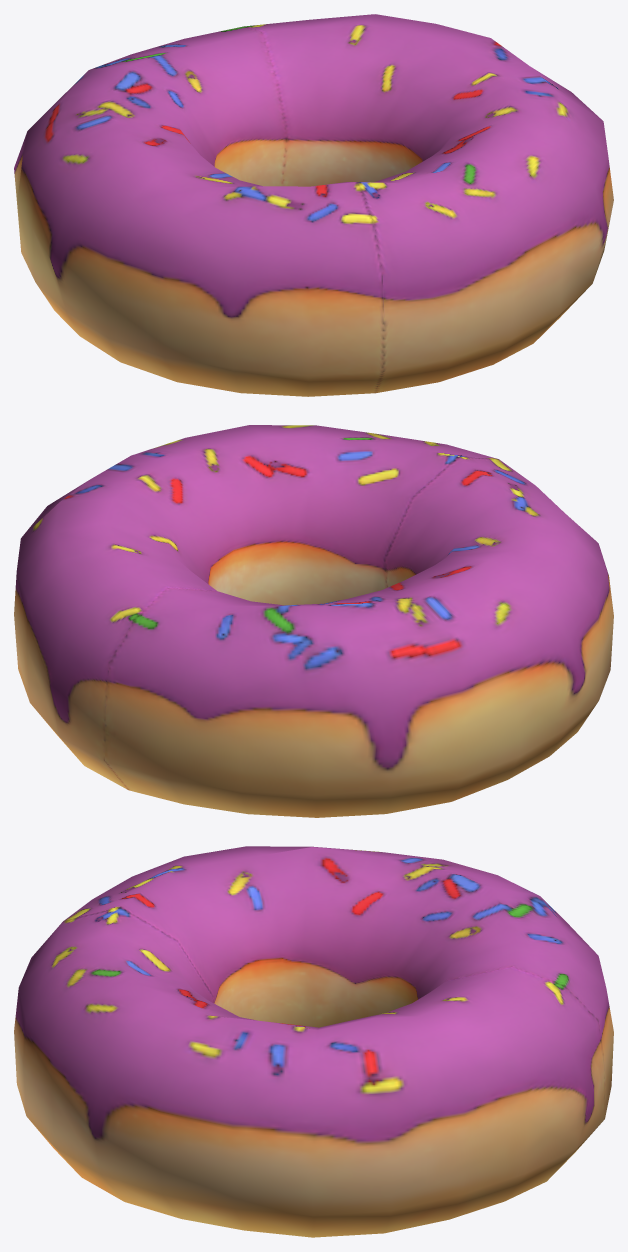
Rendered from Donut_setuped.fbx.
3 renders of one model, top to bottom at view 1: azimuth 30°, elevation 25°; view 2: azimuth 150°, elevation 25°; view 3: azimuth 270°, elevation 25°, orthographic. The views are drawn at different scales.
Parts seen in each view (by area): view 1: Donut_setup; view 2: Donut_setup; view 3: Donut_setup.
Boxes of the visible parts, x1,y1,x2,y2 form: Donut_setup: [14, 14, 613, 396]; Donut_setup: [14, 425, 613, 817]; Donut_setup: [14, 846, 613, 1237].
Bounding box in the file's own units: 15.21 × 5.77 × 14.62.
1 material, 1 textured.
